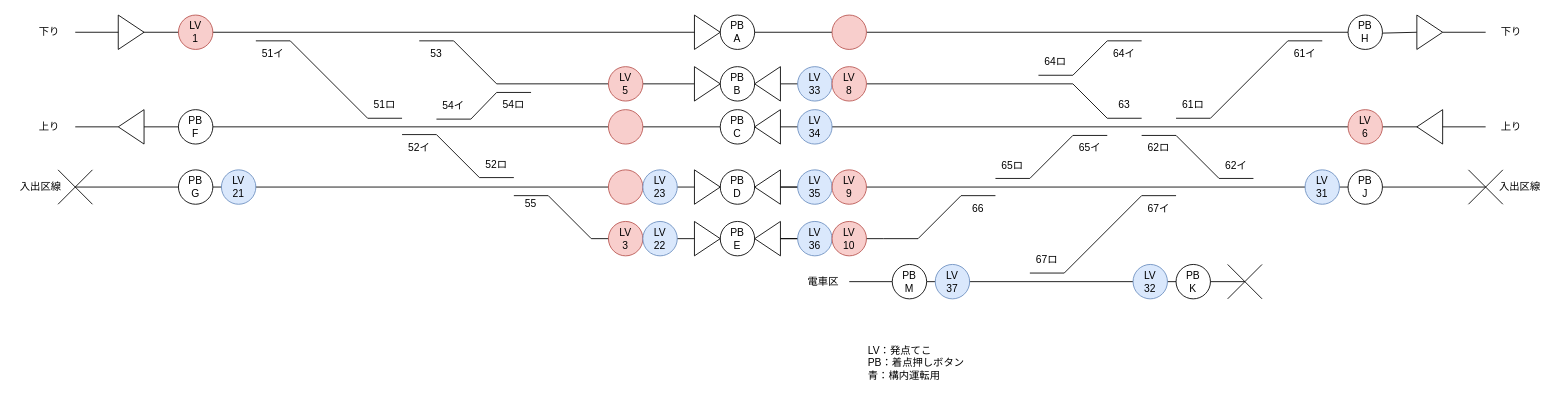
Some shapes in this 1560 by 396 pixel diagram are drawn without their labels. Here are the shapes that lost their labels. From the top down, the centre of each, then its label:
point 848,31: LV 7
point 625,126: LV 2
point 625,186: LV 4
